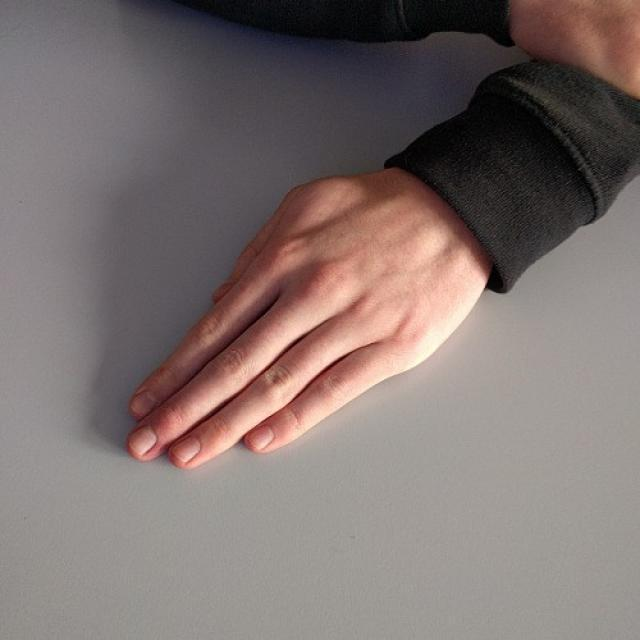paper: (127, 166, 473, 468)
